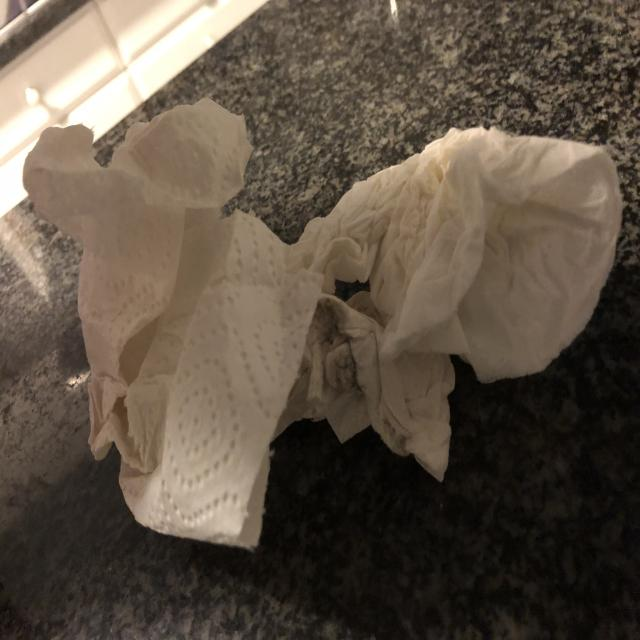kitchen paper: (27, 91, 327, 559), (321, 125, 628, 487)
